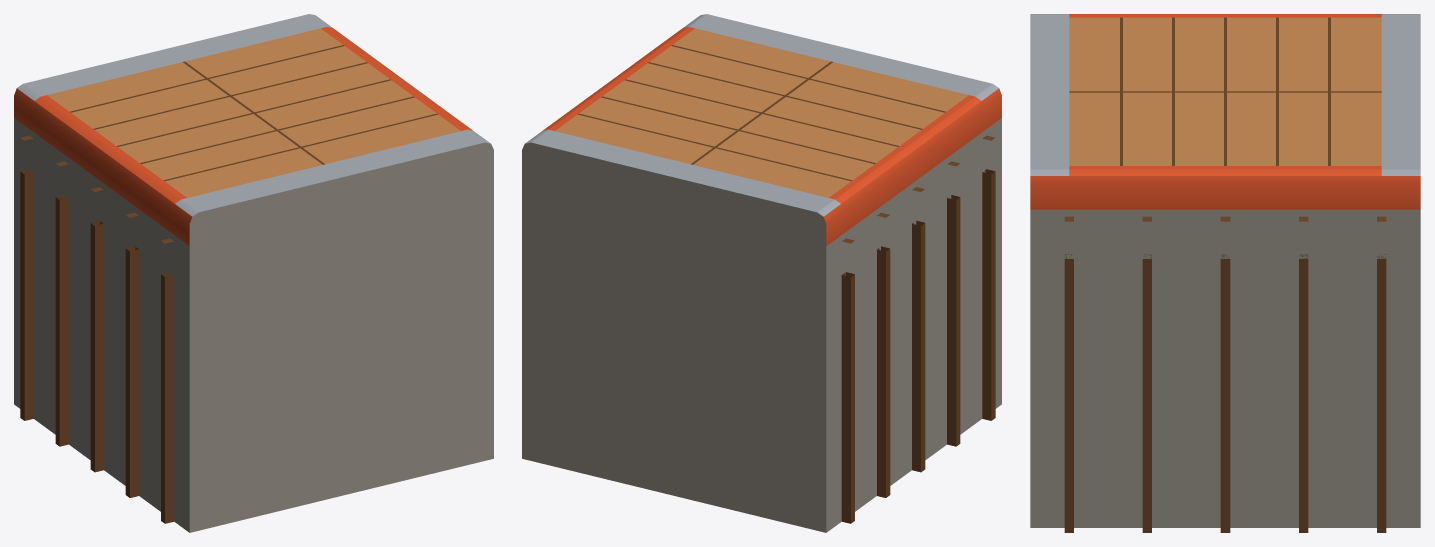
File: kit-ramp-mid.glb
The picture shows the model from 3 angles, left to right: view 1: azimuth 30°, elevation 25°; view 2: azimuth 150°, elevation 25°; view 3: azimuth 270°, elevation 25°; orthographic projection. The views are drawn at different scales.
Visible parts, largest first — view 1: ramp.001; view 2: ramp.001; view 3: ramp.001.
Boxes of the visible parts, x1,y1,x2,y2 form: ramp.001: [14, 14, 493, 532]; ramp.001: [522, 14, 1001, 532]; ramp.001: [1030, 14, 1420, 532].
Bounding box in the file's own units: 1.06 × 1 × 1.
